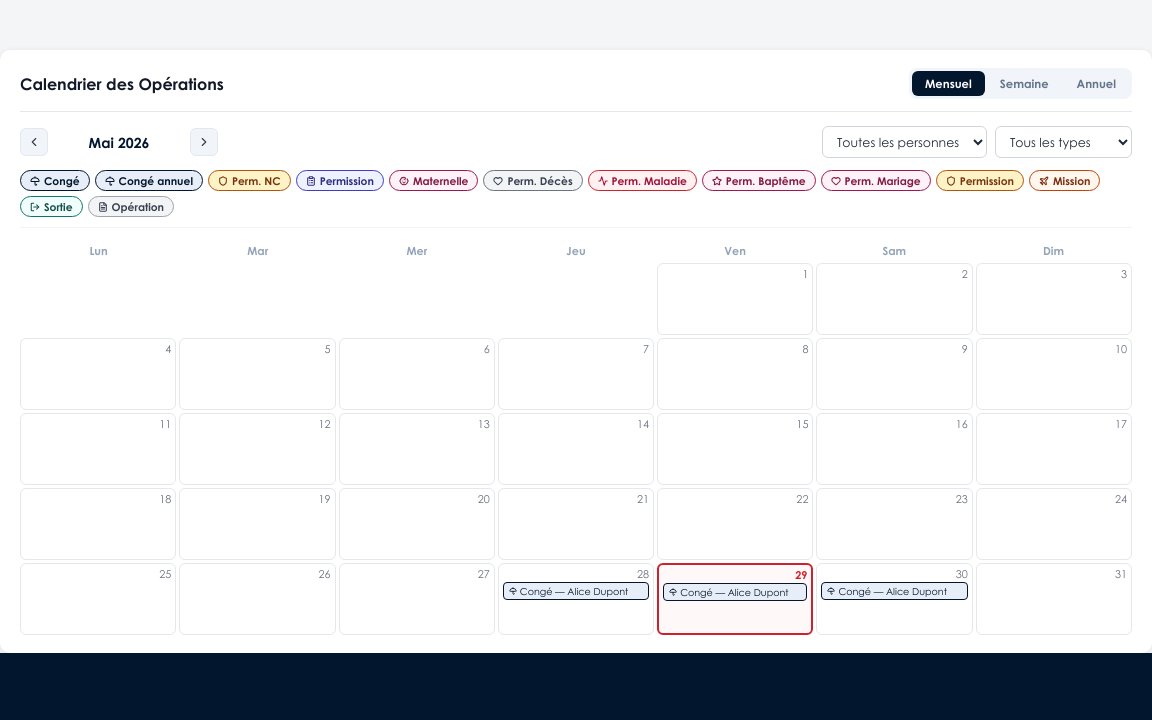
Test case: CongeCalendar — detail modal › opens detail modal when clicking an event pill
The image size is (1152, 720).
Click the button titled "Congé — Alice Dupont" below "28" at (576,591), box [503,582,649,600]
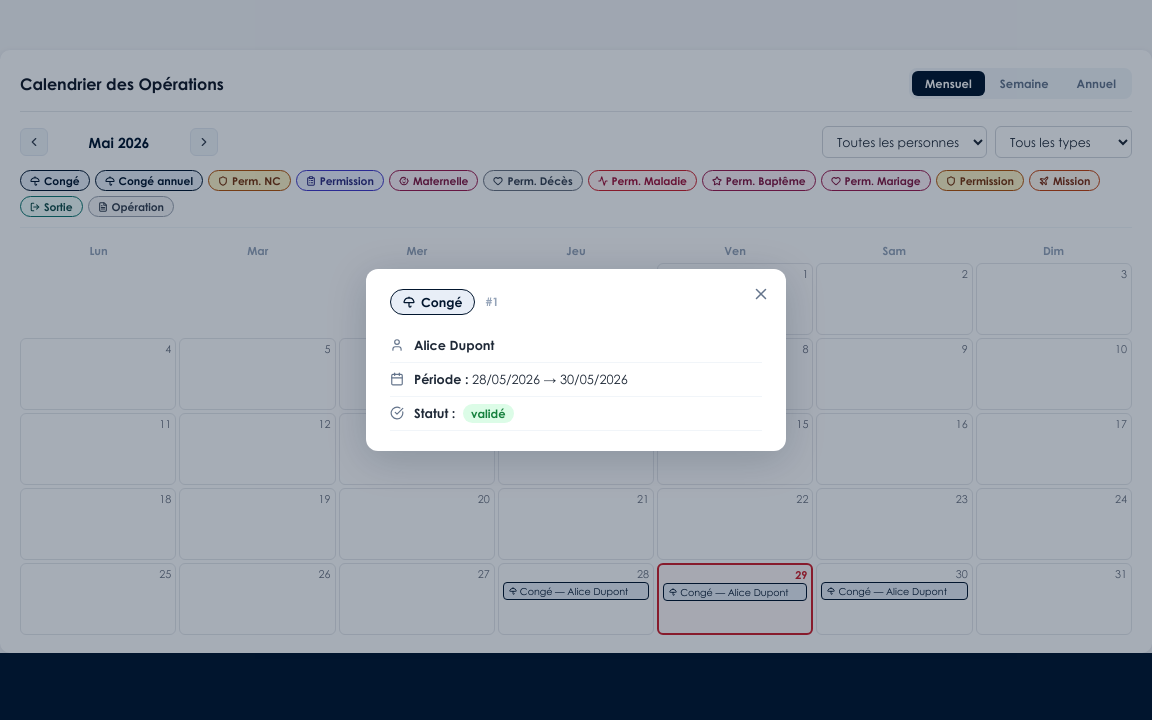
Result: the dialog is shown at [366,269,786,451]
